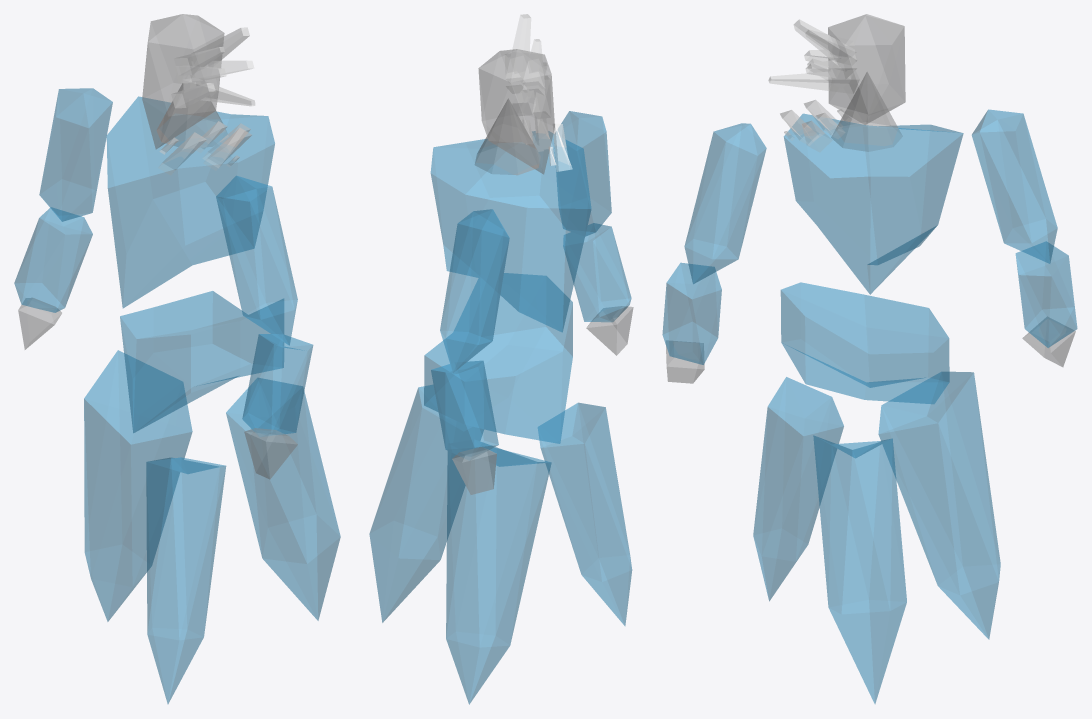
The model's file is ghostIdle37.obj.
3 views of the same model, side by side, from view 1: azimuth 30°, elevation 25°; view 2: azimuth 150°, elevation 25°; view 3: azimuth 270°, elevation 25° (orthographic). The views are drawn at different scales.
Visible parts, largest first — view 1: Cube.001_Cube.001, Icosphere.005, Icosphere.004, Cube_Cube.002, Icosphere.003, Icosphere.005_Icosphere.001, Icosphere.003_Icosphere.001, Icosphere.007_Icosphere.001, Icosphere.006_Icosphere.001, Icosphere.008_Icosphere.001, Cone_Cone.002, Cube.002_Cube.001 (+8 smaller); view 2: Cube.001_Cube.001, Cube_Cube.002, Icosphere.005, Icosphere.004, Icosphere.003, Icosphere.007_Icosphere.001, Icosphere.003_Icosphere.001, Icosphere.005_Icosphere.001, Icosphere.008_Icosphere.001, Icosphere.006_Icosphere.001, Cone_Cone.002, Cube.003_Cube.001 (+6 smaller); view 3: Cube.001_Cube.001, Icosphere.005, Icosphere.004, Cube_Cube.002, Icosphere.003, Icosphere.005_Icosphere.001, Icosphere.007_Icosphere.001, Icosphere.003_Icosphere.001, Icosphere.006_Icosphere.001, Icosphere.008_Icosphere.001, Cone_Cone.002, Cube.003_Cube.001 (+4 smaller).
Boxes of the visible parts, x1=… form: Cube.001_Cube.001: x1=106, y1=96, x2=274, y2=308; Icosphere.005: x1=84, y1=350, x2=192, y2=621; Icosphere.004: x1=226, y1=378, x2=340, y2=620; Cube_Cube.002: x1=120, y1=291, x2=283, y2=432; Icosphere.003: x1=146, y1=457, x2=226, y2=703; Icosphere.005_Icosphere.001: x1=216, y1=175, x2=297, y2=345; Icosphere.003_Icosphere.001: x1=142, y1=14, x2=224, y2=149; Icosphere.007_Icosphere.001: x1=39, y1=88, x2=112, y2=221; Icosphere.006_Icosphere.001: x1=242, y1=334, x2=313, y2=436; Icosphere.008_Icosphere.001: x1=14, y1=207, x2=92, y2=312; Cone_Cone.002: x1=157, y1=83, x2=227, y2=147; Cube.002_Cube.001: x1=244, y1=428, x2=297, y2=479; Cube.001_Cube.001: x1=430, y1=131, x2=591, y2=332; Cube_Cube.002: x1=424, y1=273, x2=572, y2=443; Icosphere.005: x1=446, y1=439, x2=551, y2=704; Icosphere.004: x1=369, y1=385, x2=483, y2=622; Icosphere.003: x1=538, y1=402, x2=632, y2=625; Icosphere.007_Icosphere.001: x1=440, y1=209, x2=509, y2=372; Icosphere.003_Icosphere.001: x1=478, y1=49, x2=554, y2=174; Icosphere.005_Icosphere.001: x1=555, y1=111, x2=611, y2=236; Icosphere.008_Icosphere.001: x1=431, y1=360, x2=498, y2=460; Icosphere.006_Icosphere.001: x1=563, y1=223, x2=631, y2=321; Cone_Cone.002: x1=475, y1=98, x2=538, y2=175; Cube.003_Cube.001: x1=452, y1=447, x2=496, y2=494; Cube.001_Cube.001: x1=784, y1=113, x2=963, y2=294; Icosphere.005: x1=878, y1=371, x2=1000, y2=639; Icosphere.004: x1=813, y1=435, x2=906, y2=703; Cube_Cube.002: x1=780, y1=282, x2=949, y2=404; Icosphere.003: x1=753, y1=377, x2=843, y2=601; Icosphere.005_Icosphere.001: x1=684, y1=123, x2=766, y2=283; Icosphere.007_Icosphere.001: x1=972, y1=109, x2=1057, y2=263; Icosphere.003_Icosphere.001: x1=828, y1=14, x2=905, y2=124; Icosphere.006_Icosphere.001: x1=662, y1=262, x2=721, y2=364; Icosphere.008_Icosphere.001: x1=1015, y1=241, x2=1077, y2=347; Cone_Cone.002: x1=831, y1=72, x2=902, y2=151; Cube.003_Cube.001: x1=1022, y1=317, x2=1075, y2=366.
Bounding box in the file's own units: 17.03 × 47.57 × 28.07.
